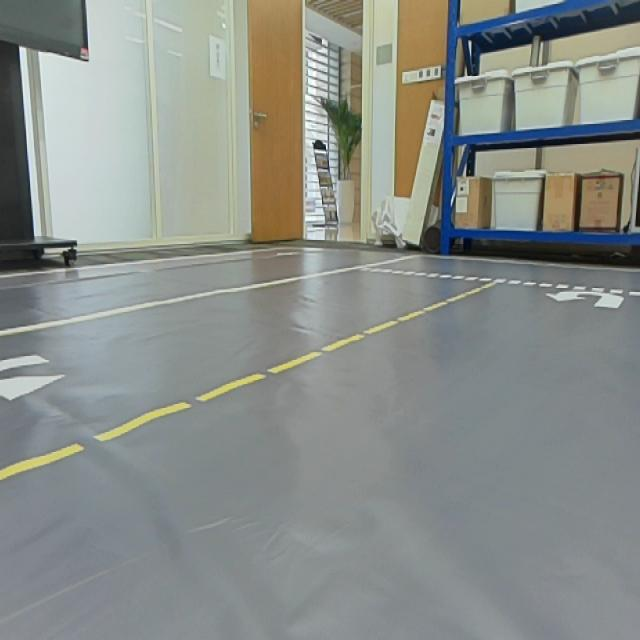left_lane: (0, 279, 496, 481)
right_lane: (0, 258, 395, 337)
